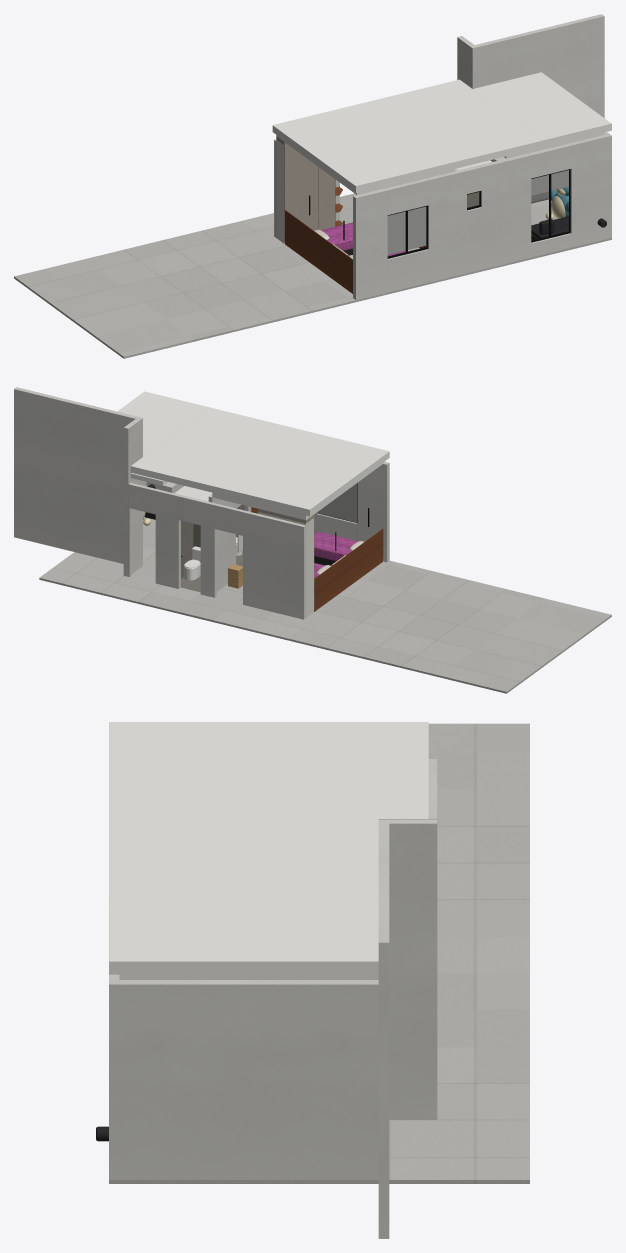
File: casa_sul.glb
3 views of the same model, one above another, from view 1: azimuth 30°, elevation 25°; view 2: azimuth 150°, elevation 25°; view 3: azimuth 270°, elevation 25° (orthographic). The views are drawn at different scales.
Parts seen in each view (by area): view 1: ZONA_sul; view 2: ZONA_sul; view 3: ZONA_sul.
Boxes of the visible parts, box(x1,y1,x2,y2) form: ZONA_sul: box(14, 14, 611, 358); ZONA_sul: box(14, 387, 611, 693); ZONA_sul: box(96, 722, 529, 1238).
Size of the model in its own units: 16.82 by 4.57 by 5.99.
1 material, 1 textured.
